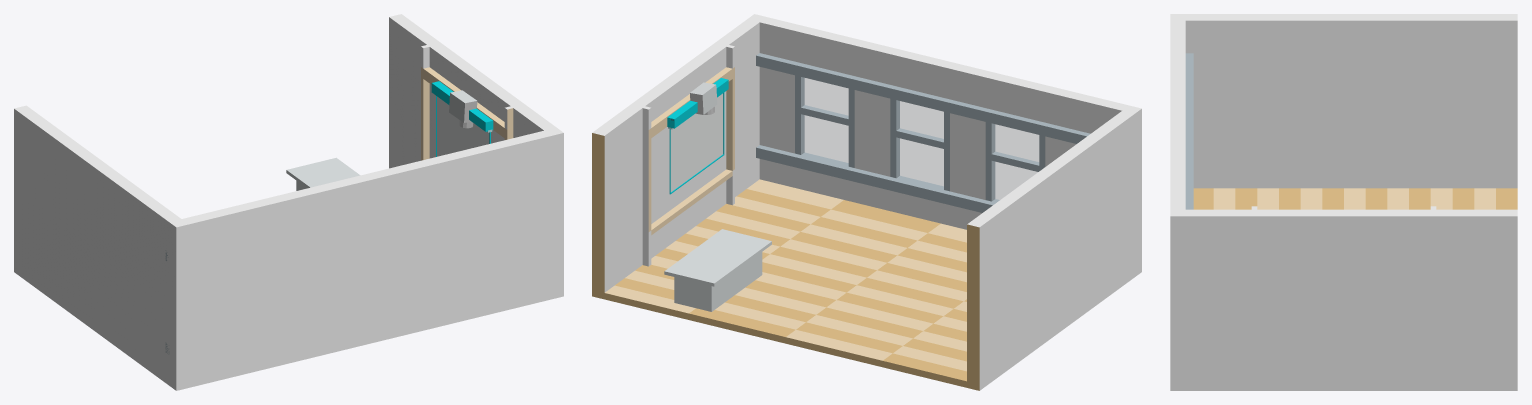
File: classroom (1).glb
3 views of the same model, side by side, from view 1: azimuth 30°, elevation 25°; view 2: azimuth 150°, elevation 25°; view 3: azimuth 270°, elevation 25° (orthographic). The views are drawn at different scales.
Visible parts, largest first — view 1: group1449373451, group1182977881, group1868045008, group1311002747, group1886756263, group474188441, group234389260; view 2: group1449373451, group1311002747, group1182977881, group1868045008, group474188441, group1886756263, group234389260; view 3: group1868045008, group1182977881, group1311002747, group1449373451.
Boxes of the visible parts, left/top/right/bottom form: group1449373451: left=165, top=130, right=557, bottom=383; group1182977881: left=14, top=105, right=188, bottom=390; group1868045008: left=389, top=14, right=563, bottom=297; group1311002747: left=14, top=266, right=563, bottom=390; group1886756263: left=431, top=81, right=493, bottom=156; group474188441: left=286, top=157, right=360, bottom=190; group234389260: left=449, top=90, right=477, bottom=122; group1449373451: left=754, top=16, right=1141, bottom=229; group1311002747: left=592, top=179, right=1141, bottom=390; group1182977881: left=967, top=109, right=1141, bottom=384; group1868045008: left=592, top=14, right=766, bottom=292; group474188441: left=664, top=229, right=771, bottom=311; group1886756263: left=667, top=78, right=728, bottom=194; group234389260: left=690, top=82, right=717, bottom=114; group1868045008: left=1170, top=206, right=1517, bottom=390; group1182977881: left=1185, top=14, right=1517, bottom=188; group1311002747: left=1170, top=188, right=1517, bottom=390; group1449373451: left=1170, top=14, right=1193, bottom=212.
Bounding box in the file's own units: 0.62 × 0.25 × 0.45.
